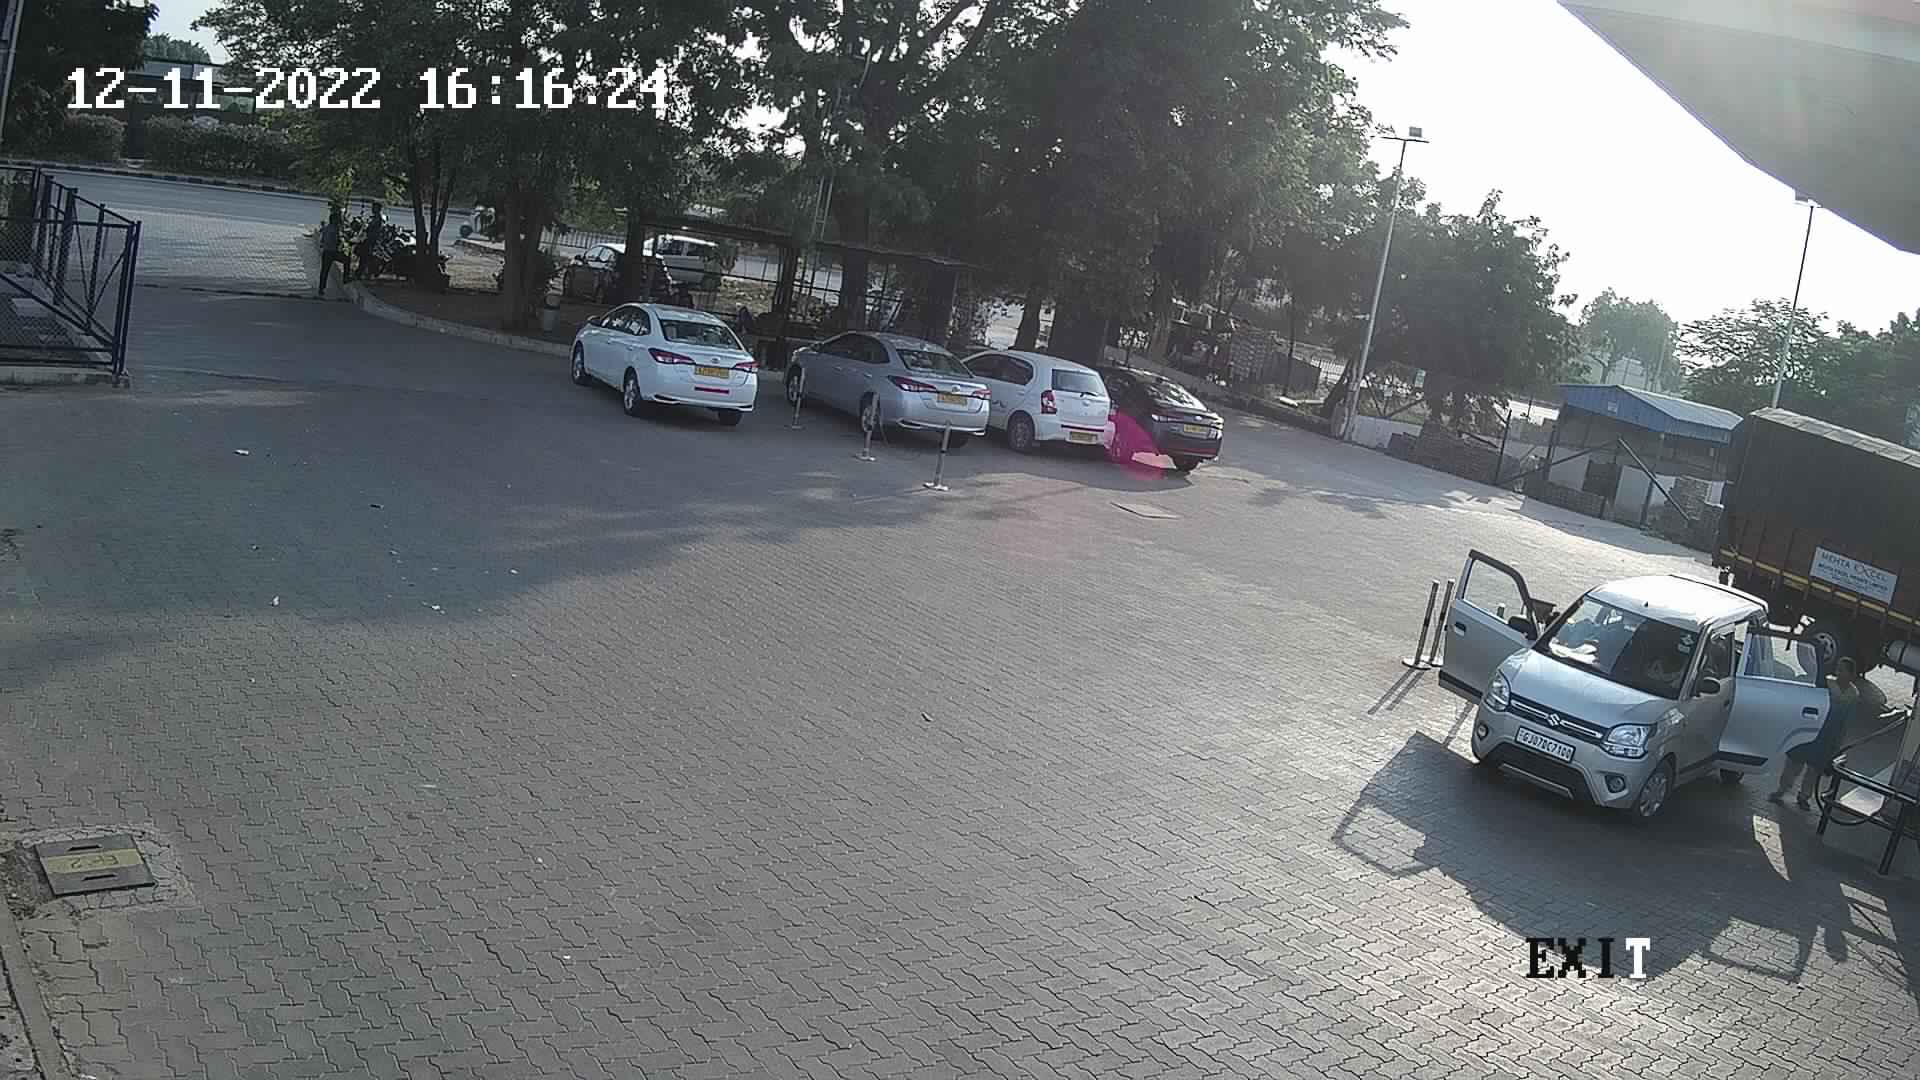Car: (1431, 541, 1844, 841), (787, 314, 1007, 451), (562, 286, 774, 426), (1071, 347, 1232, 472), (957, 342, 1120, 465), (644, 227, 737, 297), (549, 233, 636, 305)
HMV: (1697, 396, 1917, 717)
